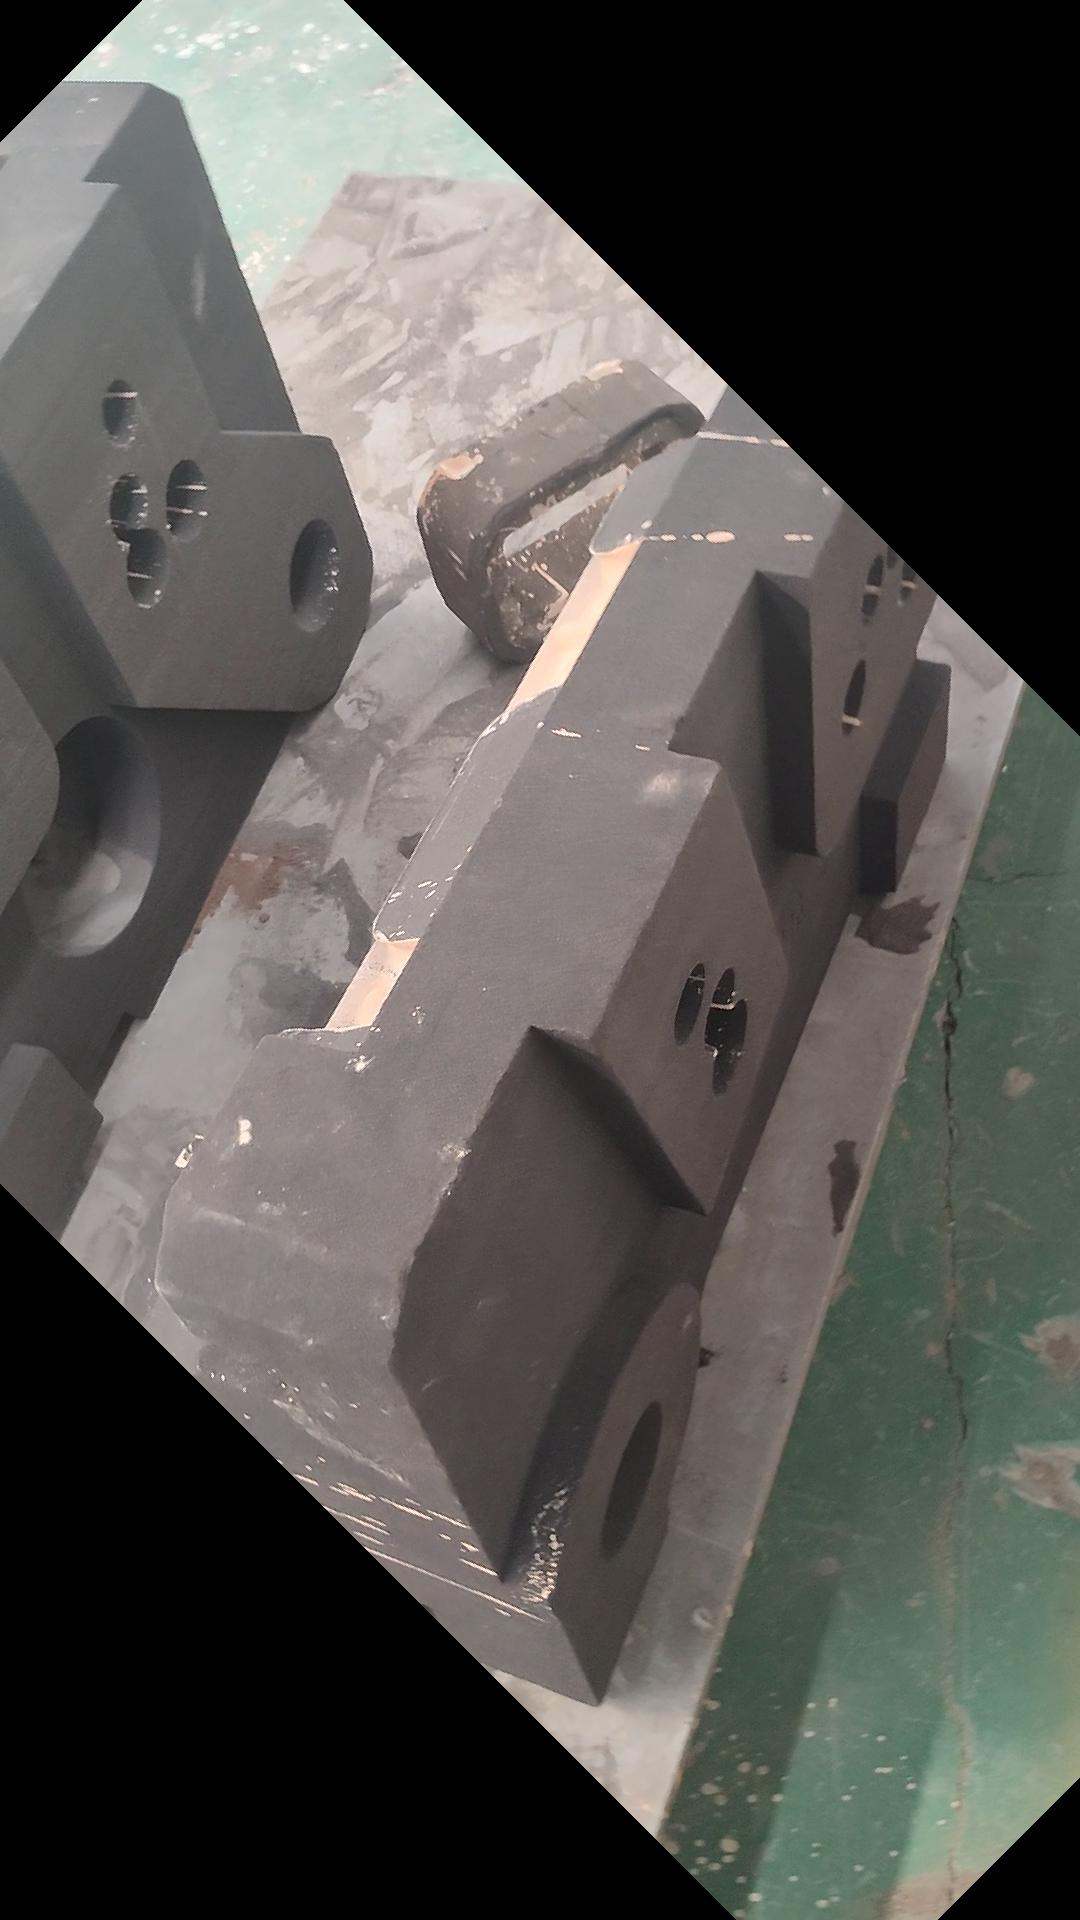pouring hole: (599, 1396, 661, 1563), (289, 518, 342, 633)
